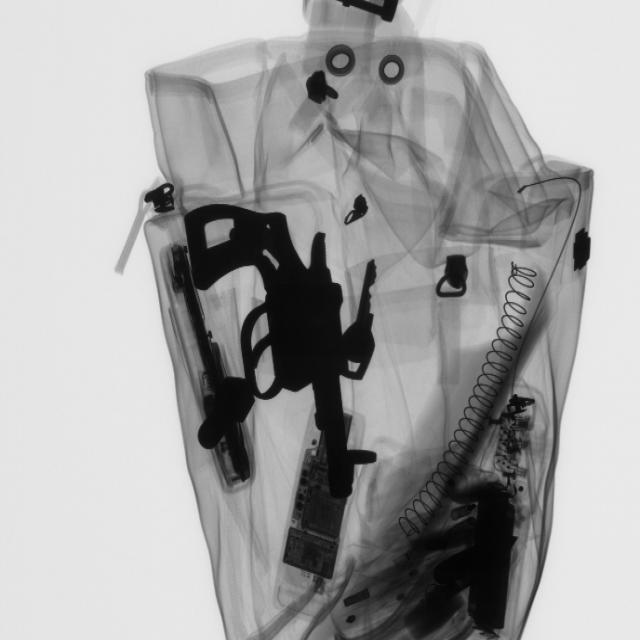GUN: (193, 203, 366, 511)
